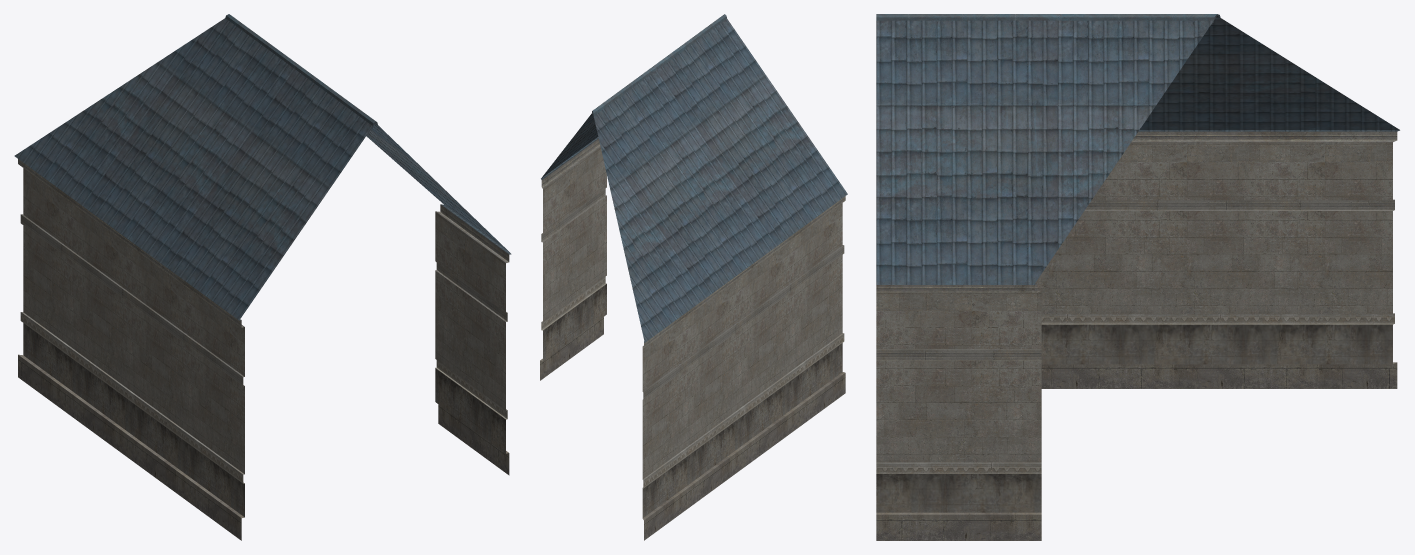
Rendered from bg_lut_lucastle_house05_sm_sup.FBX.
3 renders of one model, left to right at view 1: azimuth 30°, elevation 25°; view 2: azimuth 150°, elevation 25°; view 3: azimuth 270°, elevation 25°, orthographic. The views are drawn at different scales.
Parts seen in each view (by area): view 1: bg_lut_lucastle_house05_sm_sup; view 2: bg_lut_lucastle_house05_sm_sup; view 3: bg_lut_lucastle_house05_sm_sup.
Boxes of the visible parts, left/top/right/bottom form: bg_lut_lucastle_house05_sm_sup: left=14, top=14, right=511, bottom=540; bg_lut_lucastle_house05_sm_sup: left=540, top=14, right=847, bottom=540; bg_lut_lucastle_house05_sm_sup: left=876, top=14, right=1399, bottom=540.
Bounding box in the file's own units: 503 × 683 × 719.
